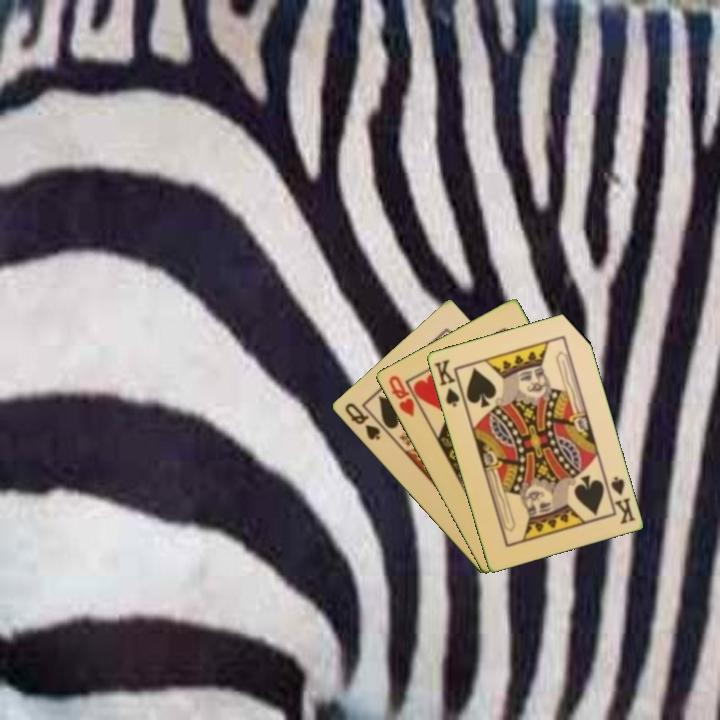Ks: (430, 356, 467, 409), (602, 473, 638, 527)
Qh: (385, 372, 417, 420)
Qs: (341, 399, 383, 443)
